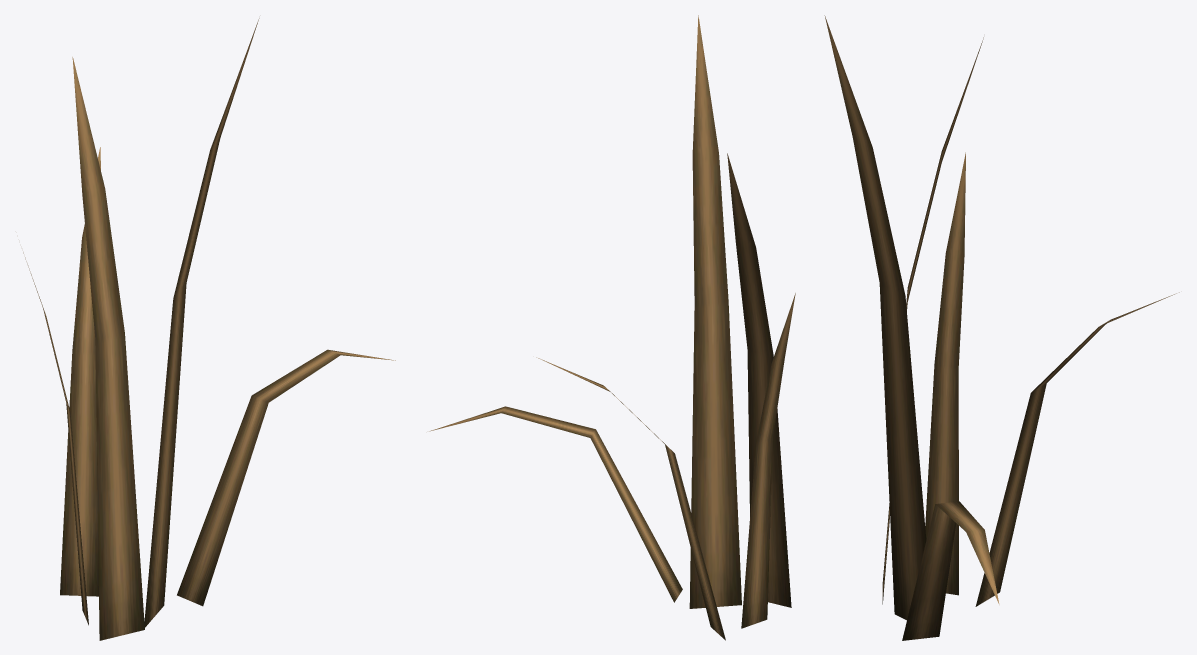
File: INST_OH_NGRASS_TUFT_03.fbx
3 views of the same model, side by side, from view 1: azimuth 30°, elevation 25°; view 2: azimuth 150°, elevation 25°; view 3: azimuth 270°, elevation 25° (orthographic). The views are drawn at different scales.
Visible parts, largest first — view 1: INST_OH_NGRASS_TUFT_03; view 2: INST_OH_NGRASS_TUFT_03; view 3: INST_OH_NGRASS_TUFT_03.
Part boxes in pixels (x1,y1,x2,y2): INST_OH_NGRASS_TUFT_03: (23,18,395,640); INST_OH_NGRASS_TUFT_03: (429,15,795,640); INST_OH_NGRASS_TUFT_03: (824,15,1179,640).
Size of the model in its own units: 2227 by 3299 by 1667.
Materials: 1 (1 with a texture image).
